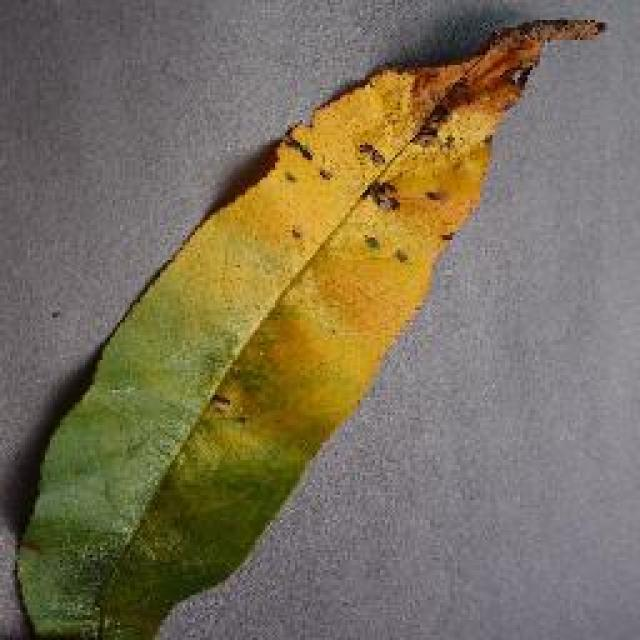Peach_Bacterial_Spot: (330, 5, 570, 315)
